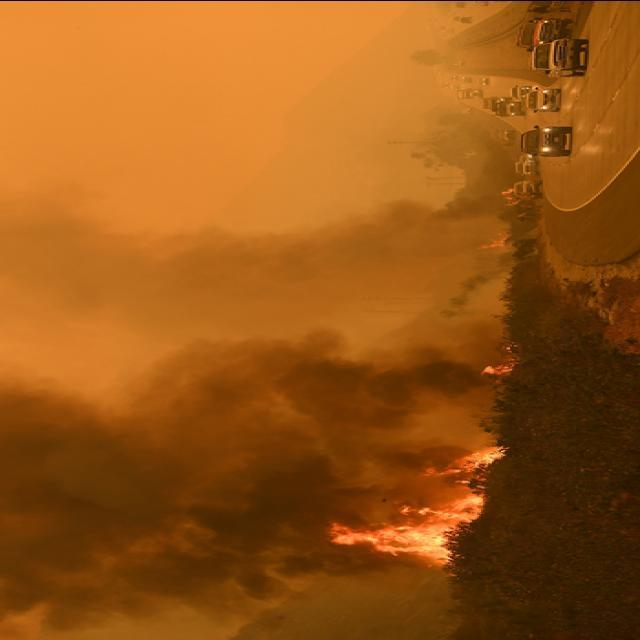Fire: (331, 439, 508, 579)
